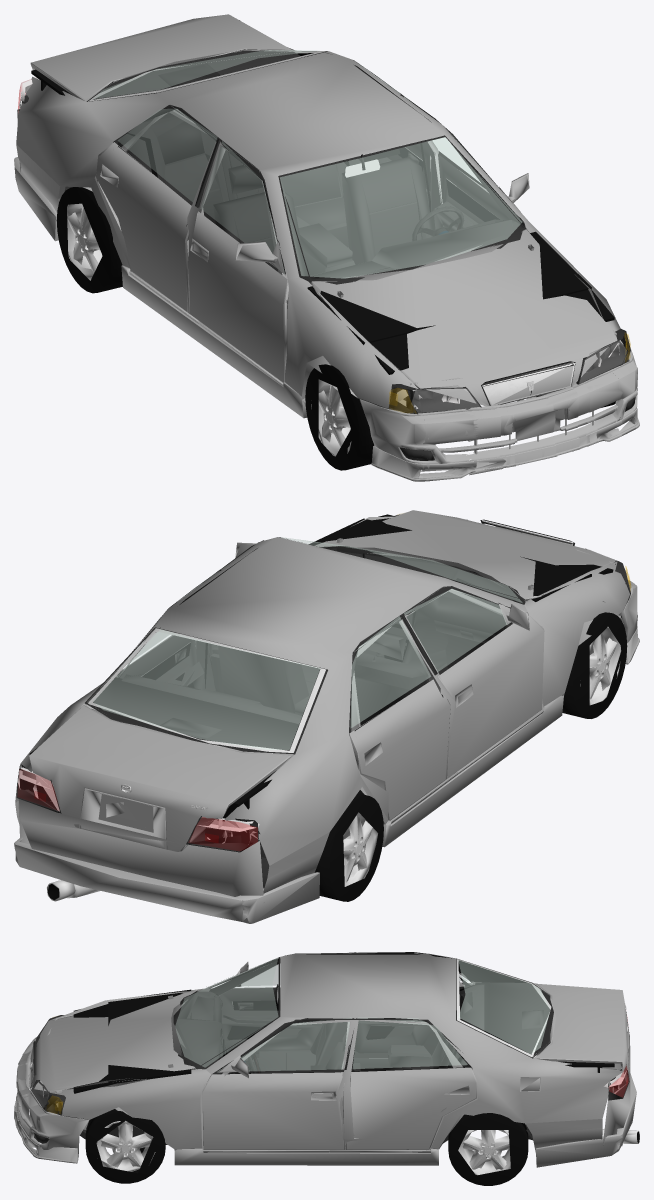
File: hq-chaser.glb
The picture shows the model from 3 angles, top to bottom: view 1: azimuth 30°, elevation 25°; view 2: azimuth 150°, elevation 25°; view 3: azimuth 270°, elevation 25°; orthographic projection. The views are drawn at different scales.
Visible parts, largest first — view 1: Object_16, Object_15, Object_9, Object_14, Object_30, Object_32, Object_29, Object_28, Object_27, Object_17, Object_18, Object_19 (+9 smaller); view 2: Object_16, Object_15, Object_9, Object_14, Object_30, Object_28, Object_32, Object_27, Object_6, Object_24, Object_29, Object_22 (+4 smaller); view 3: Object_16, Object_9, Object_14, Object_15, Object_28, Object_32, Object_30, Object_27, Object_29, Object_20, Object_21, Object_23 (+5 smaller).
Part boxes in pixels (x1,y1,x2,y2): Object_16: [14, 47, 625, 418]; Object_15: [30, 14, 630, 441]; Object_9: [94, 50, 521, 278]; Object_14: [96, 142, 639, 435]; Object_30: [18, 49, 575, 413]; Object_32: [31, 20, 622, 470]; Object_29: [117, 112, 481, 413]; Object_28: [93, 50, 525, 284]; Object_27: [298, 154, 526, 282]; Object_17: [499, 368, 622, 467]; Object_18: [359, 380, 597, 481]; Object_19: [418, 408, 478, 481]; Object_16: [14, 537, 629, 923]; Object_15: [29, 510, 615, 851]; Object_9: [93, 537, 522, 749]; Object_14: [116, 542, 544, 820]; Object_30: [16, 519, 603, 888]; Object_28: [88, 548, 527, 753]; Object_32: [29, 514, 627, 901]; Object_27: [295, 548, 525, 725]; Object_6: [17, 769, 257, 850]; Object_24: [86, 520, 572, 810]; Object_29: [121, 548, 630, 735]; Object_22: [343, 812, 377, 886]; Object_16: [49, 953, 636, 1167]; Object_9: [175, 958, 549, 1071]; Object_14: [27, 962, 477, 1157]; Object_15: [29, 952, 629, 1150]; Object_28: [173, 952, 553, 1074]; Object_32: [73, 989, 614, 1185]; Object_30: [30, 952, 629, 1148]; Object_27: [175, 984, 360, 1074]; Object_29: [35, 984, 484, 1070]; Object_20: [17, 1050, 88, 1163]; Object_21: [209, 954, 527, 1062]; Object_23: [96, 1121, 155, 1171].
Size of the model in its own units: 8.15 by 5.6 by 20.36.
Materials: 16 (5 with a texture image).
